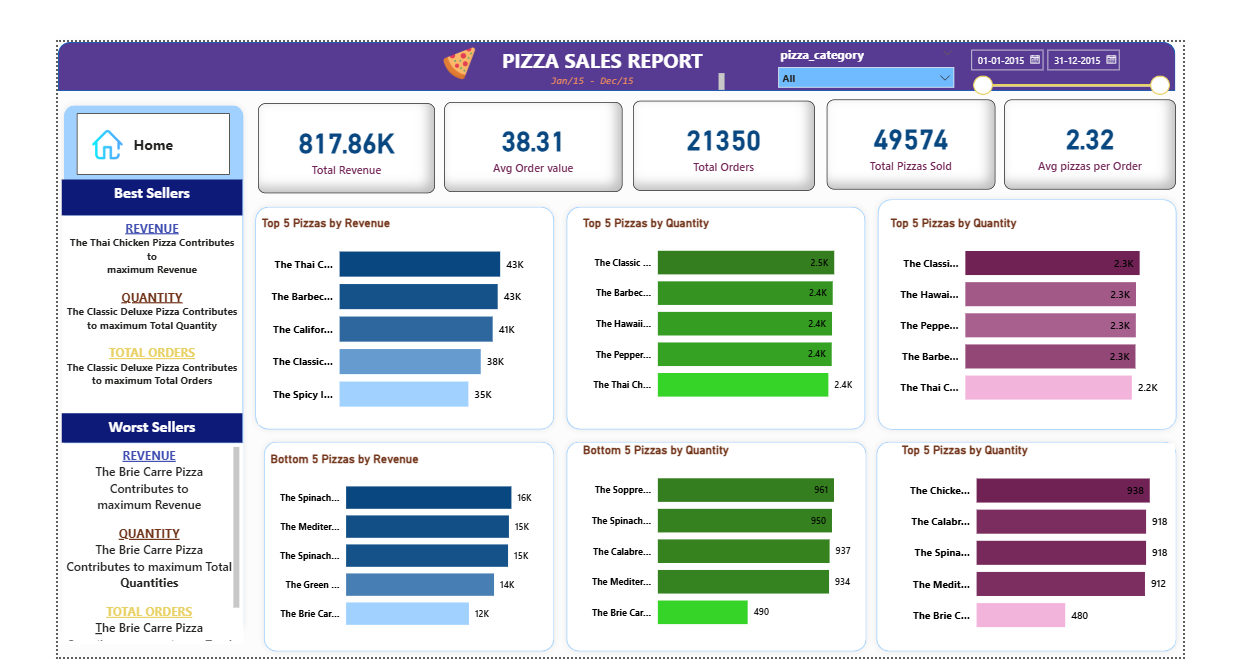

The dashboard page shown, as its layout file describes it:
{"tool":"powerbi","page":{"name":"Best/worst Sellers","canvas":[1500,820],"ordinal":1},"visuals":[{"type":"shape","box":[0,0,1489.9,65.2],"z":0},{"type":"shape","box":[0,76.8,255.1,721.7],"z":1000},{"type":"card","fields":{"Values":["pizza_sales.Total Revenue"]},"box":[266.7,81.2,236.2,120.3],"z":2000},{"type":"card","fields":{"Values":["pizza_sales.Avg Order value"]},"box":[514.5,79.7,237.7,120.3],"z":3000},{"type":"card","fields":{"Values":["pizza_sales.Total Pizzas Sold"]},"box":[1024.6,76.8,224.6,120.3],"z":4000},{"type":"card","fields":{"Values":["pizza_sales.Total Orders"]},"box":[766.7,78.3,242,120.3],"z":5000},{"type":"card","fields":{"Values":["pizza_sales.Avg pizzas per Order"]},"box":[1260.9,76.8,229,120.3],"z":6000},{"type":"textbox","box":[639.1,36.2,255.1,37.7],"z":7000},{"type":"image","box":[485.5,1.4,100,53.6],"z":8000},{"type":"shape","box":[255.1,211.6,414.5,313],"z":9000},{"type":"textbox","box":[485.5,1.4,491.3,65.2],"z":10000},{"type":"textbox","box":[5.8,184.1,240.6,47.8],"z":11000},{"type":"textbox","box":[5.8,231.9,240.6,263.8],"z":12000},{"type":"slicer","fields":{"Values":["pizza_sales.pizza_category"]},"box":[949.3,0,255.1,66.7],"z":13000},{"type":"slicer","fields":{"Values":["pizza_sales.order_date"]},"box":[1204.3,0,285.5,81.2],"z":14000},{"type":"shape","box":[669.6,211.6,414.5,313],"z":15000},{"type":"shape","box":[1085.5,201.4,414.5,323.2],"z":16000},{"type":"shape","box":[266.7,524.6,402.9,295.7],"z":17000},{"type":"shape","box":[669.6,524.6,415.9,295.7],"z":18000},{"type":"shape","box":[1084.1,524.6,415.9,295.7],"z":19000},{"type":"clusteredBarChart","title":"Top 5 Pizzas by Revenue","fields":{"Category":["pizza_sales.pizza_name"],"Y":["pizza_sales.Total Revenue"]},"box":[266.7,231.9,382.6,278.3],"z":20000},{"type":"clusteredBarChart","title":"Bottom 5 Pizzas by Revenue","fields":{"Category":["pizza_sales.pizza_name"],"Y":["pizza_sales.Total Revenue"]},"box":[278.3,546.4,371,252.2],"z":21000},{"type":"clusteredBarChart","title":"Top 5 Pizzas by Quantity","fields":{"Category":["pizza_sales.pizza_name"],"Y":["pizza_sales.Total Pizzas Sold"]},"box":[694.2,231.9,369.6,263.8],"z":22000},{"type":"clusteredBarChart","title":"Bottom 5 Pizzas by Quantity","fields":{"Category":["pizza_sales.pizza_name"],"Y":["pizza_sales.Total Pizzas Sold"]},"box":[694.2,534.8,369.6,263.8],"z":23000},{"type":"clusteredBarChart","title":"Top 5 Pizzas by Quantity","fields":{"Category":["pizza_sales.pizza_name"],"Y":["pizza_sales.Total Orders"]},"box":[1105.8,231.9,369.6,268.1],"z":24000},{"type":"clusteredBarChart","title":"Top 5 Pizzas by Quantity","fields":{"Category":["pizza_sales.pizza_name"],"Y":["pizza_sales.Total Orders"]},"box":[1120.3,534.8,369.6,268.1],"z":25000},{"type":"textbox","box":[5.8,495.7,240.6,39.1],"z":26000},{"type":"textbox","box":[5.8,534.8,242,268.1],"z":27000},{"type":"pageNavigator","box":[24.6,95.7,204.3,82.6],"z":27001},{"type":"image","box":[39.1,111.6,55.1,50.7],"z":27002}]}

Visuals, with their boxes in screenshot pixels (x1, y1, x2, y2), scaled from the page's 1500x820 canvas onto the 1241x660 screenshot:
shape: l=0, t=0, r=1233, b=52
shape: l=0, t=62, r=211, b=643
card - pizza_sales.Total Revenue: l=221, t=65, r=416, b=162
card - pizza_sales.Avg Order value: l=426, t=64, r=622, b=161
card - pizza_sales.Total Pizzas Sold: l=848, t=62, r=1034, b=159
card - pizza_sales.Total Orders: l=634, t=63, r=835, b=160
card - pizza_sales.Avg pizzas per Order: l=1043, t=62, r=1233, b=159
textbox: l=529, t=29, r=740, b=59
image: l=402, t=1, r=484, b=44
shape: l=211, t=170, r=554, b=422
textbox: l=402, t=1, r=808, b=54
textbox: l=5, t=148, r=204, b=187
textbox: l=5, t=187, r=204, b=399
slicer - pizza_sales.pizza_category: l=785, t=0, r=996, b=54
slicer - pizza_sales.order_date: l=996, t=0, r=1233, b=65
shape: l=554, t=170, r=897, b=422
shape: l=898, t=162, r=1240, b=422
shape: l=221, t=422, r=554, b=659
shape: l=554, t=422, r=898, b=659
shape: l=897, t=422, r=1240, b=659
"Top 5 Pizzas by Revenue" clusteredBarChart: l=221, t=187, r=537, b=411
"Bottom 5 Pizzas by Revenue" clusteredBarChart: l=230, t=440, r=537, b=643
"Top 5 Pizzas by Quantity" clusteredBarChart: l=574, t=187, r=880, b=399
"Bottom 5 Pizzas by Quantity" clusteredBarChart: l=574, t=430, r=880, b=643
"Top 5 Pizzas by Quantity" clusteredBarChart: l=915, t=187, r=1221, b=402
"Top 5 Pizzas by Quantity" clusteredBarChart: l=927, t=430, r=1233, b=646
textbox: l=5, t=399, r=204, b=430
textbox: l=5, t=430, r=205, b=646
pageNavigator: l=20, t=77, r=189, b=144
image: l=32, t=90, r=78, b=131
